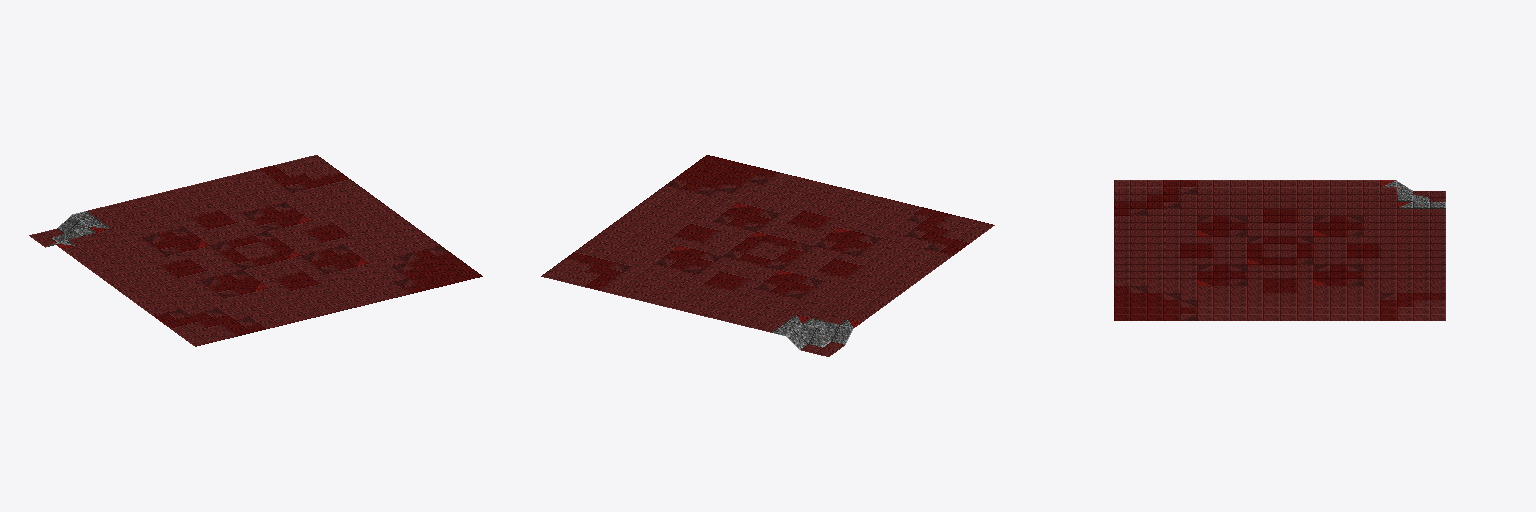
3 views of the same model, side by side, from view 1: azimuth 30°, elevation 25°; view 2: azimuth 150°, elevation 25°; view 3: azimuth 270°, elevation 25° (orthographic).
Visible parts, largest first — view 1: FloorCentral_3; view 2: FloorCentral_3; view 3: FloorCentral_3.
Boxes of the visible parts, box(x1,y1,x2,y2) form: FloorCentral_3: box(29, 155, 482, 346); FloorCentral_3: box(541, 155, 994, 356); FloorCentral_3: box(1114, 180, 1445, 320).
Bounding box in the file's own units: 20 × 0.6907 × 20.
Materials: 11 (11 with a texture image).